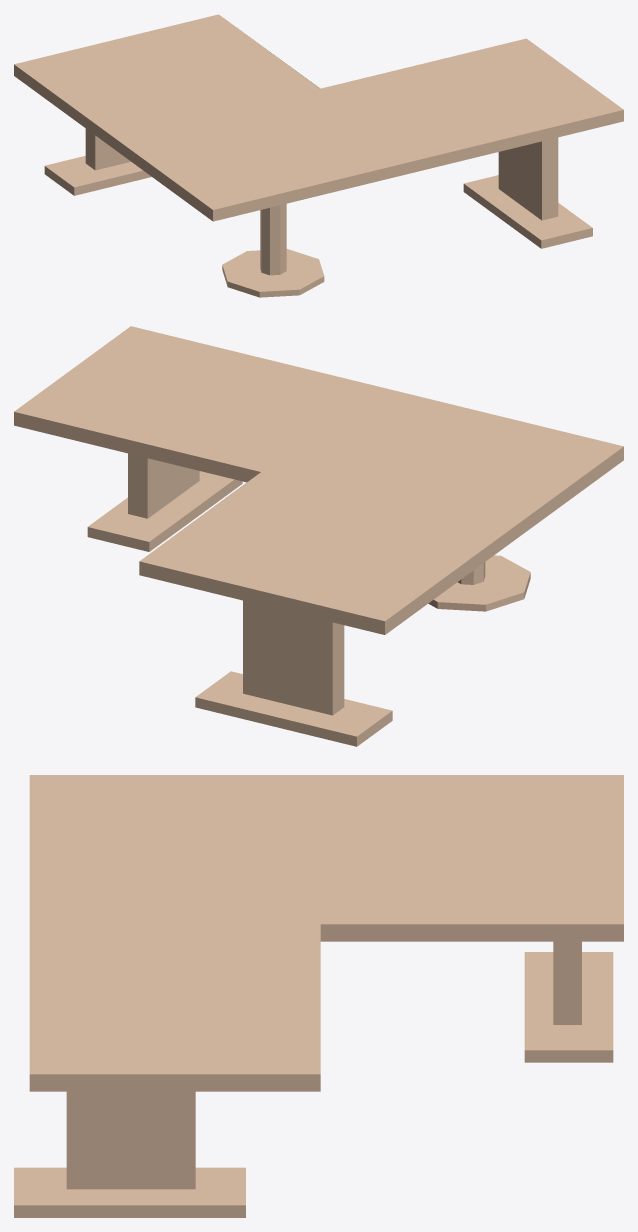
The model's file is Ldesk.obj.
3 views of the same model, one above another, from view 1: azimuth 30°, elevation 25°; view 2: azimuth 150°, elevation 25°; view 3: azimuth 270°, elevation 25° (orthographic). The views are drawn at different scales.
Visible parts, largest first — view 1: L_desk:name7; view 2: L_desk:name7; view 3: L_desk:name7.
Part boxes in pixels (bbox=[...]): L_desk:name7: bbox=[14, 14, 623, 297]; L_desk:name7: bbox=[14, 326, 623, 746]; L_desk:name7: bbox=[14, 775, 623, 1217].
Size of the model in its own units: 8.93 by 2.37 by 7.69.
1 material, 1 textured.
